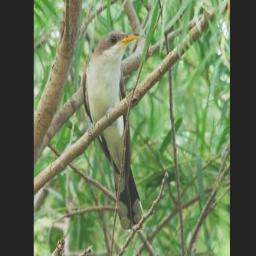Cuckoo: (83, 29, 145, 230)
